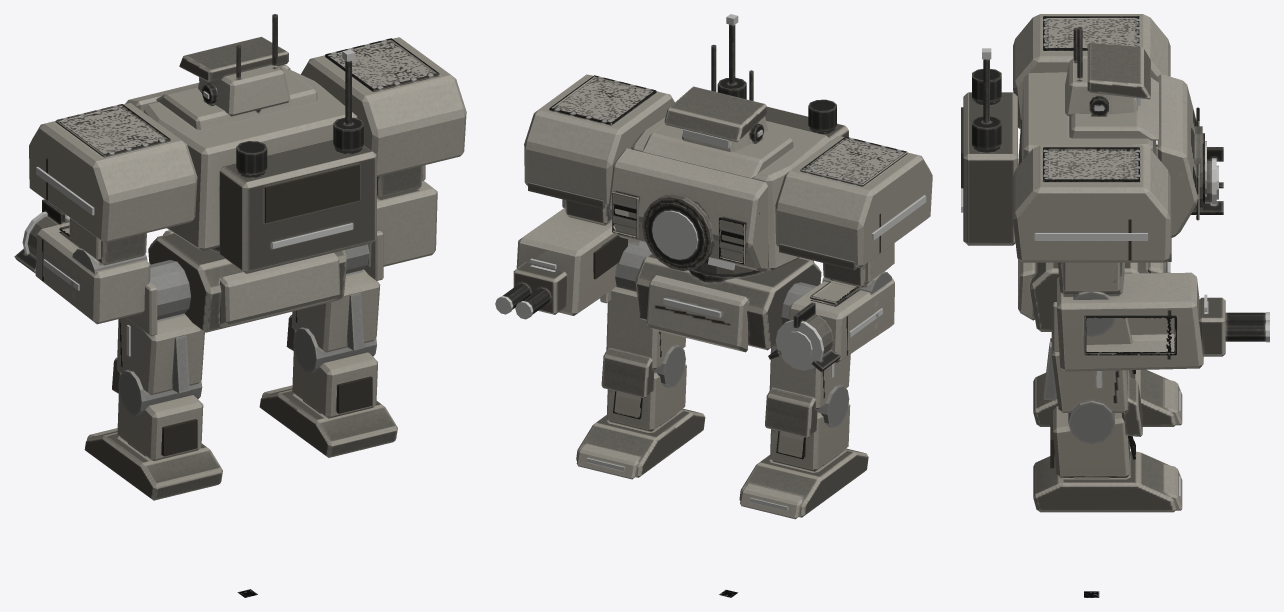
File: ord_sovereign.fbx
The picture shows the model from 3 angles, left to right: view 1: azimuth 30°, elevation 25°; view 2: azimuth 150°, elevation 25°; view 3: azimuth 270°, elevation 25°; orthographic projection. The views are drawn at different scales.
Visible parts, largest first — view 1: torso_bar, base_bar, nano_bar, thighL_bar, head_bar, thighR_bar, footR_bar, footL_bar, shinL_bar, shinR_bar, forearmR_bar, hipL_bar (+5 smaller); view 2: torso_bar, base_bar, forearmR_bar, thighR_bar, nano_bar, thighL_bar, footR_bar, footL_bar, head_bar, shinL_bar, shinR_bar, nano_glow_power_bar (+6 smaller); view 3: torso_bar, forearmR_bar, footR_bar, thighR_bar, head_bar, shinR_bar, footL_bar, base_bar, armR_bar, hipR_bar, torso_glow_running_bar, nano_bar.
Part boxes in pixels (<box>): torso_bar: <box>29,37,466,273</box>; base_bar: <box>148,230,347,332</box>; nano_bar: <box>14,199,150,324</box>; thighL_bar: <box>112,313,204,415</box>; head_bar: <box>179,14,290,116</box>; thighR_bar: <box>286,269,380,373</box>; footR_bar: <box>259,385,397,457</box>; footL_bar: <box>84,428,222,500</box>; shinL_bar: <box>117,390,203,460</box>; shinR_bar: <box>292,347,377,418</box>; forearmR_bar: <box>367,180,437,266</box>; hipL_bar: <box>125,260,190,335</box>; torso_bar: <box>524,24,932,274</box>; base_bar: <box>635,253,821,352</box>; forearmR_bar: <box>503,208,639,315</box>; thighR_bar: <box>601,287,685,398</box>; nano_bar: <box>768,278,894,372</box>; thighL_bar: <box>765,344,850,437</box>; footR_bar: <box>576,408,705,479</box>; footL_bar: <box>739,448,868,519</box>; head_bar: <box>664,44,767,151</box>; shinL_bar: <box>770,403,850,471</box>; shinR_bar: <box>606,364,686,431</box>; nano_glow_power_bar: <box>775,320,824,370</box>; torso_bar: <box>961,14,1204,262</box>; forearmR_bar: <box>1057,272,1265,371</box>; footR_bar: <box>1033,451,1182,512</box>; thighR_bar: <box>1043,332,1142,444</box>; head_bar: <box>1065,27,1150,116</box>; shinR_bar: <box>1050,406,1135,477</box>; footL_bar: <box>1033,369,1182,426</box>; base_bar: <box>1018,259,1167,331</box>; armR_bar: <box>1058,262,1124,336</box>; hipR_bar: <box>1052,302,1132,351</box>; torso_glow_running_bar: <box>982,48,1147,240</box>; nano_bar: <box>1156,144,1223,214</box>.
Size of the model in its own units: 546 by 820 by 398.
Materials: 2 (2 with a texture image).
